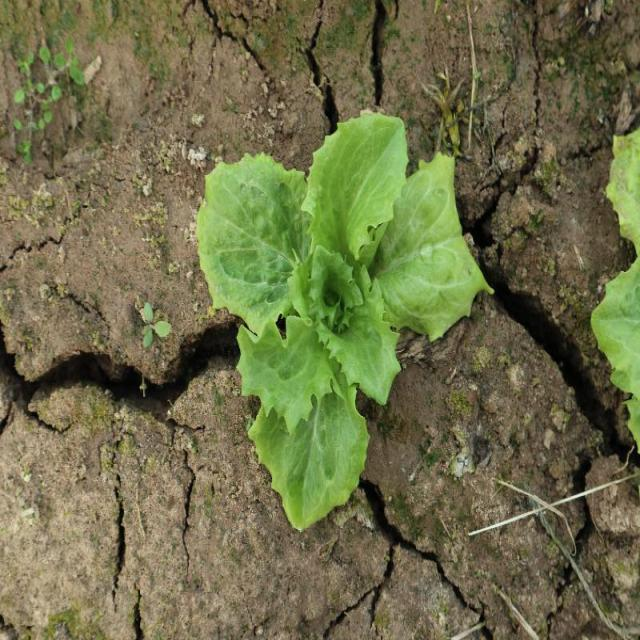crop: (200, 115, 485, 529)
